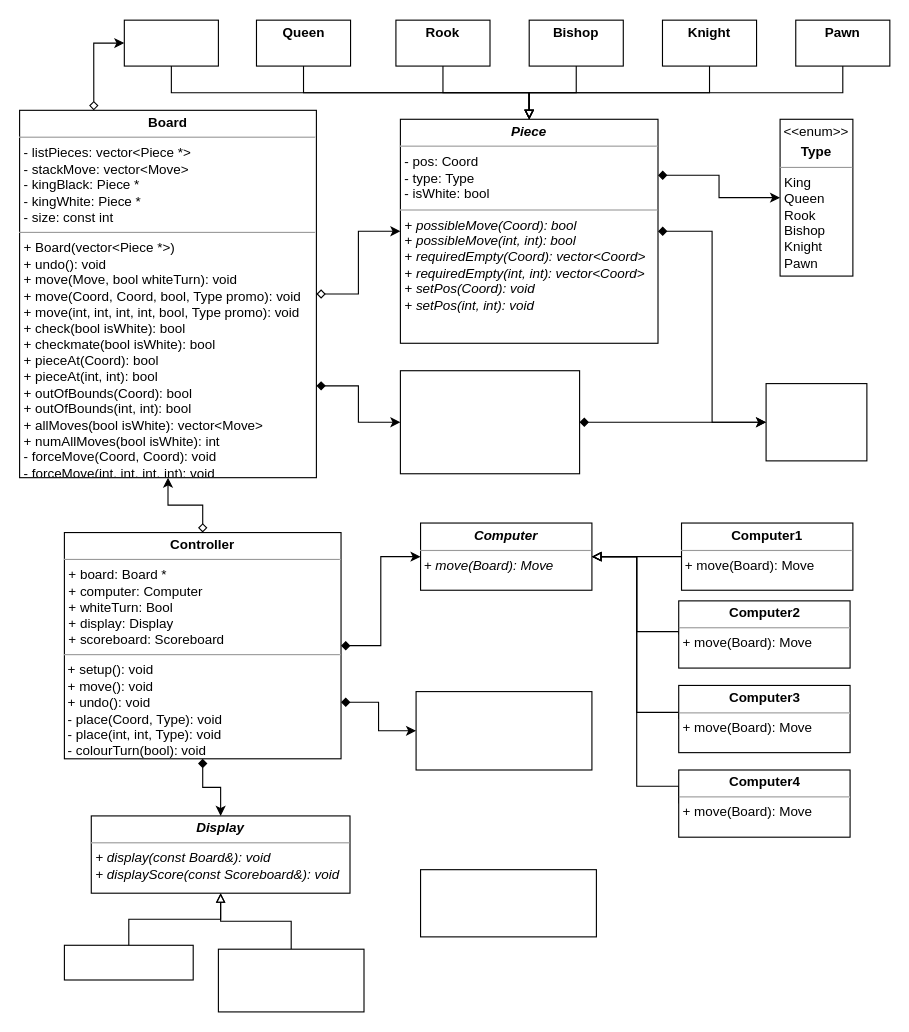
Image size: 909x1032. Some labels were removed from this diagram. The shapes that lost their labels are listed below. From the top down, each one's centre as x and y in pixels, then its label:
At (170,42): "King".
At (489,422): "Move + source: Coord + dest: Coord + capture: Piece * + oldPromo: Piece *".
At (816,421): "Coord + row: int + col: int".
At (503,730): "Scoreboard - whiteScore: int - blackScore: int".
At (507,903): "InvalidMove - message: String".
At (128,962): "TextDisplay".
At (290,980): "GraphicsDisplay - w: XWindow".
